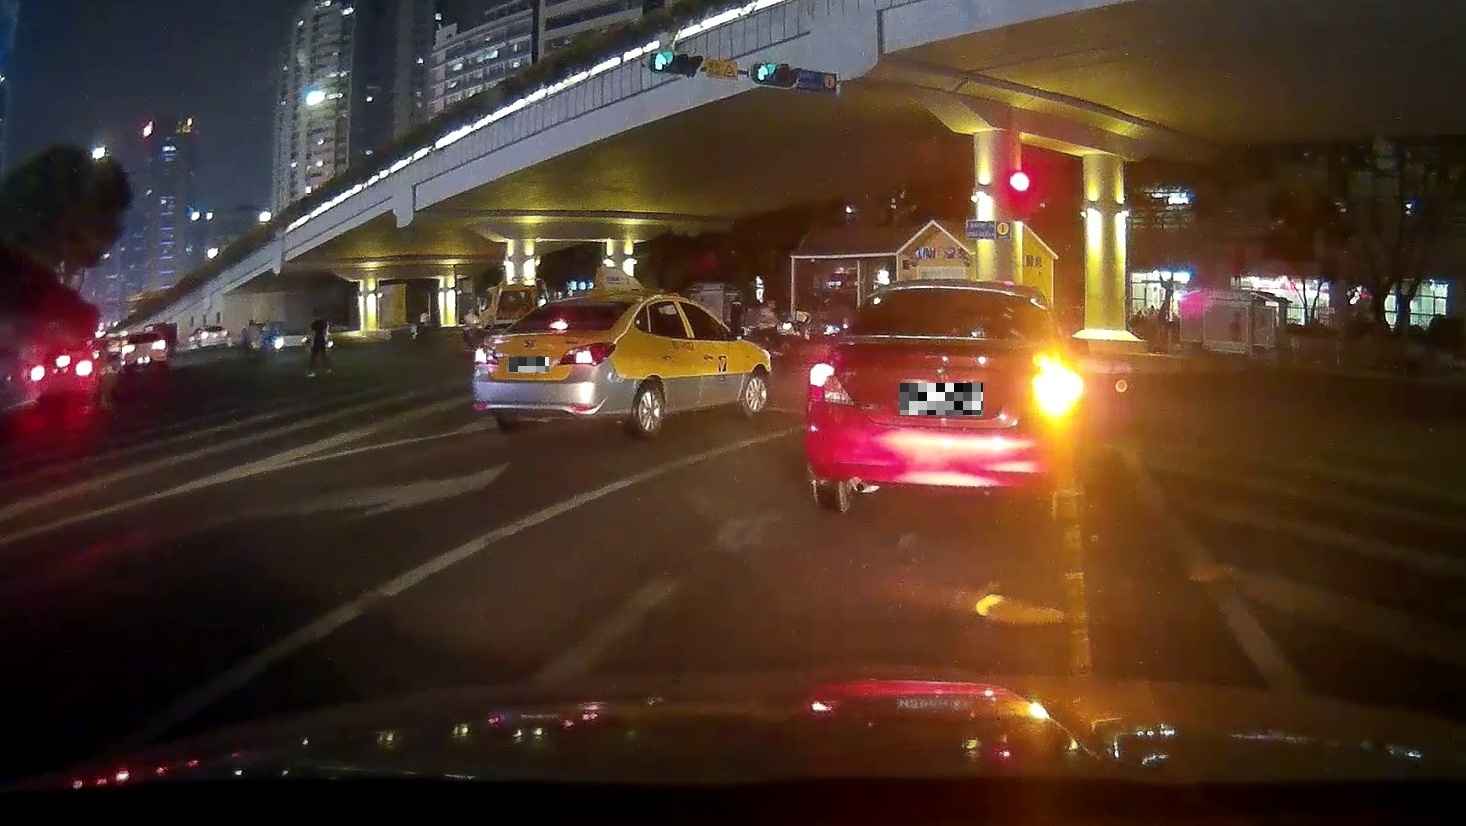L_light: (808, 363, 855, 406), (474, 343, 498, 365)
R_light: (1025, 368, 1077, 414), (559, 342, 617, 366)
T_light: (932, 288, 970, 299), (548, 322, 568, 329)
night-brake: (474, 292, 637, 439)
night-right: (805, 279, 1083, 512)
plate_1: (509, 357, 549, 372)
plate_2: (900, 383, 983, 415)
